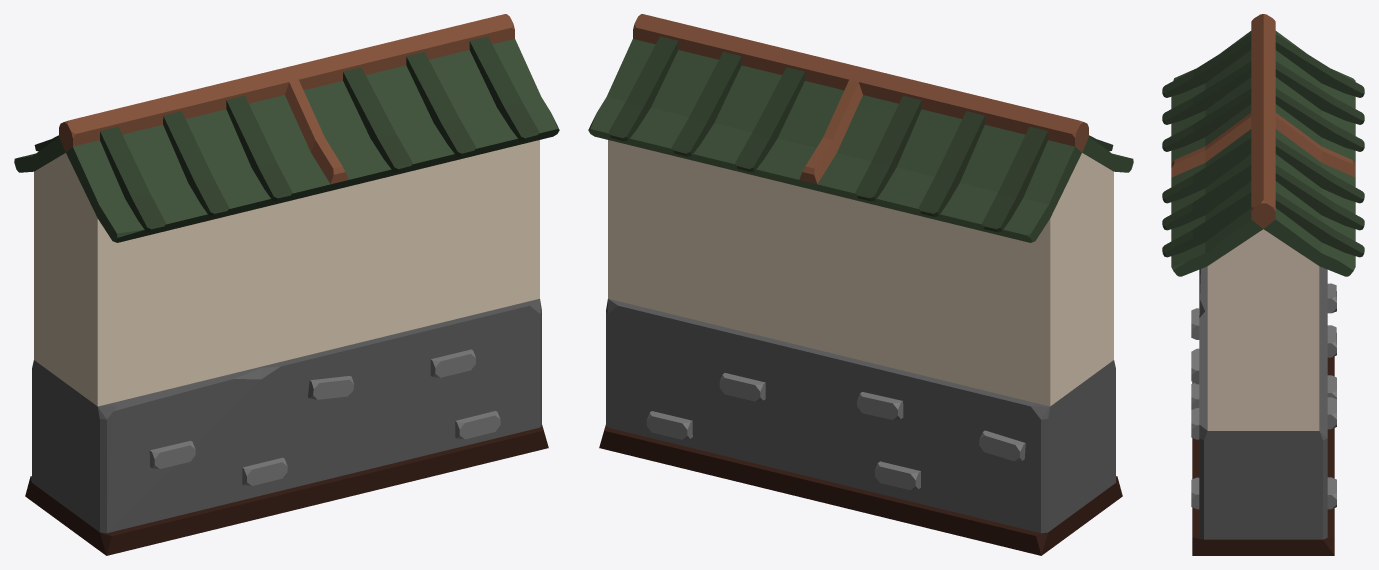
Rendered from GardenWall_3 Asia.fbx.
The picture shows the model from 3 angles, left to right: view 1: azimuth 30°, elevation 25°; view 2: azimuth 150°, elevation 25°; view 3: azimuth 270°, elevation 25°; orthographic projection. The views are drawn at different scales.
Parts seen in each view (by area): view 1: GardenWall_3; view 2: GardenWall_3; view 3: GardenWall_3.
Part boxes in pixels (x1,y1,x2,y2): GardenWall_3: (14, 14, 559, 555); GardenWall_3: (588, 14, 1133, 555); GardenWall_3: (1162, 14, 1364, 555).
Bounding box in the file's own units: 3.23 × 2.82 × 1.46.
